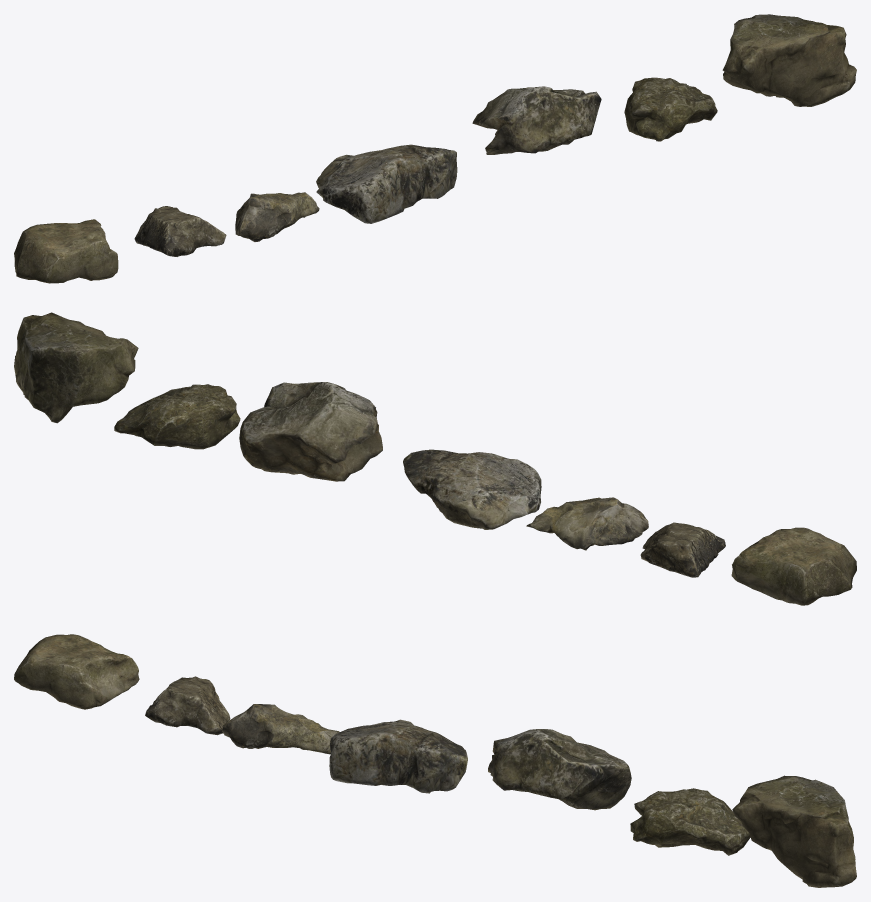
File: rock_moss_set_02.glb
3 views of the same model, one above another, from view 1: azimuth 30°, elevation 25°; view 2: azimuth 150°, elevation 25°; view 3: azimuth 330°, elevation 25° (orthographic). The views are drawn at different scales.
Visible parts, largest first — view 1: rock_moss_set_02_rock13, rock_moss_set_02_rock10, rock_moss_set_02_rock11, rock_moss_set_02_rock07, rock_moss_set_02_rock12, rock_moss_set_02_rock08, rock_moss_set_02_rock09; view 2: rock_moss_set_02_rock11, rock_moss_set_02_rock13, rock_moss_set_02_rock10, rock_moss_set_02_rock07, rock_moss_set_02_rock12, rock_moss_set_02_rock09, rock_moss_set_02_rock08; view 3: rock_moss_set_02_rock13, rock_moss_set_02_rock11, rock_moss_set_02_rock10, rock_moss_set_02_rock07, rock_moss_set_02_rock12, rock_moss_set_02_rock09, rock_moss_set_02_rock08.
Boxes of the visible parts, x1,y1,x2,y2 form: rock_moss_set_02_rock13: [722, 14, 856, 106]; rock_moss_set_02_rock10: [316, 144, 457, 223]; rock_moss_set_02_rock11: [472, 86, 601, 154]; rock_moss_set_02_rock07: [14, 219, 118, 283]; rock_moss_set_02_rock12: [624, 77, 717, 141]; rock_moss_set_02_rock08: [134, 206, 226, 256]; rock_moss_set_02_rock09: [235, 192, 319, 241]; rock_moss_set_02_rock11: [239, 382, 382, 481]; rock_moss_set_02_rock13: [14, 312, 138, 423]; rock_moss_set_02_rock10: [403, 449, 541, 529]; rock_moss_set_02_rock07: [731, 527, 856, 605]; rock_moss_set_02_rock12: [114, 384, 240, 449]; rock_moss_set_02_rock09: [526, 497, 648, 550]; rock_moss_set_02_rock08: [640, 522, 725, 577]; rock_moss_set_02_rock13: [732, 775, 856, 887]; rock_moss_set_02_rock11: [488, 729, 631, 810]; rock_moss_set_02_rock10: [329, 719, 467, 793]; rock_moss_set_02_rock07: [14, 634, 139, 709]; rock_moss_set_02_rock12: [630, 788, 750, 855]; rock_moss_set_02_rock09: [222, 704, 339, 754]; rock_moss_set_02_rock08: [145, 676, 230, 735].
Size of the model in its own units: 13.94 by 1.31 by 1.55.
1 material, 1 textured.
